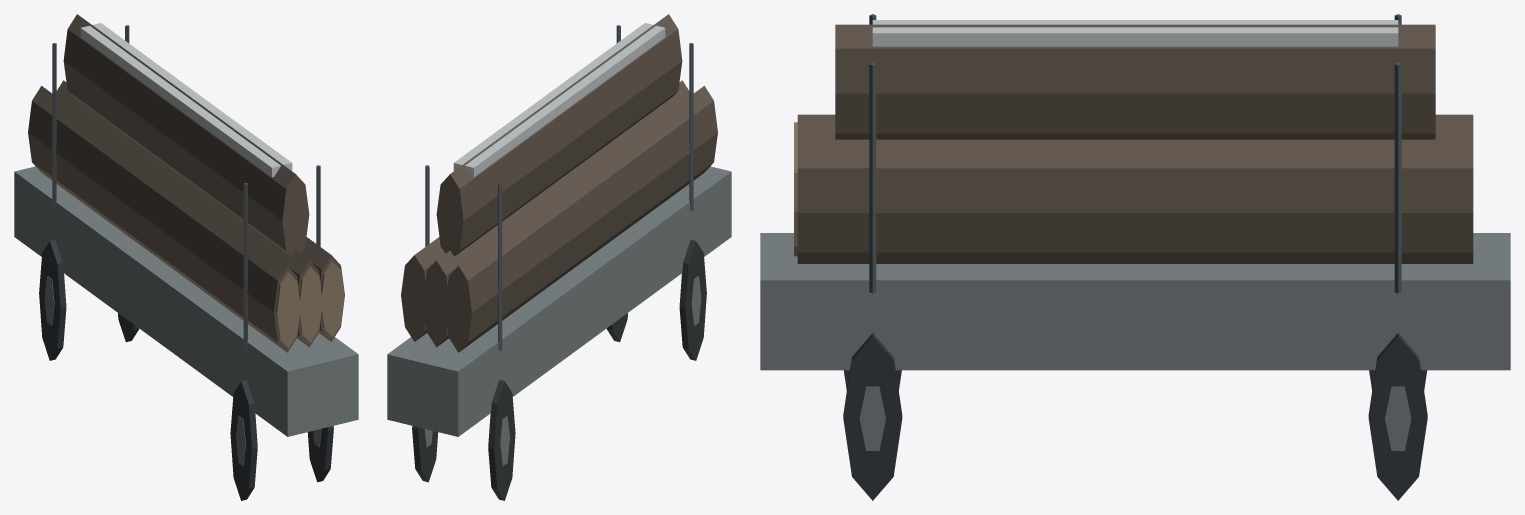
File: log_flatcar.glb
The picture shows the model from 3 angles, left to right: view 1: azimuth 30°, elevation 25°; view 2: azimuth 150°, elevation 25°; view 3: azimuth 270°, elevation 25°; orthographic projection. The views are drawn at different scales.
Parts seen in each view (by area): view 1: log_flatcar; view 2: log_flatcar; view 3: log_flatcar.
Boxes of the visible parts, box(x1,y1,x2,y2) form: log_flatcar: box(14, 14, 358, 500); log_flatcar: box(387, 14, 731, 500); log_flatcar: box(760, 14, 1510, 500).
Bounding box in the file's own units: 0.504 × 1.9 × 2.88.
